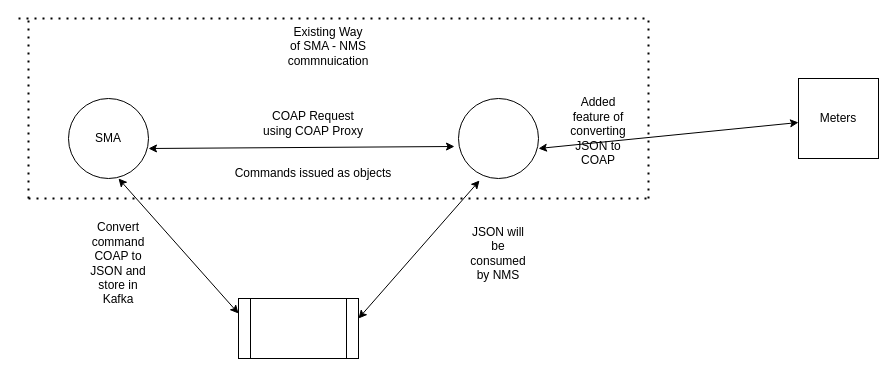
This 896x376 diagram has some shape labels left out. Each missing label, with the centre of its shape:
"Kafka Messaging" belongs at point 298,328.
"NMS" belongs at point 498,138.
